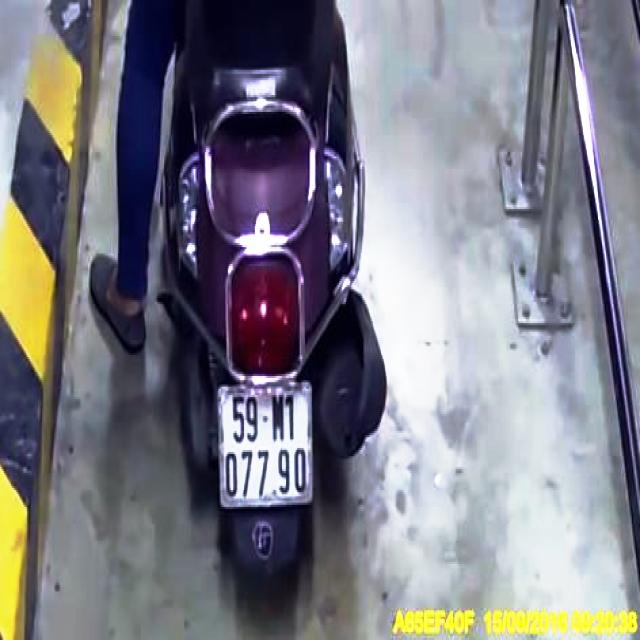license_plate: (220, 381, 316, 505)
